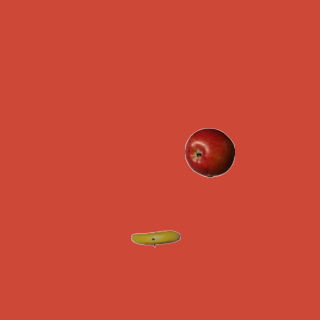Apple Braeburn: (184, 127, 234, 177)
Banana: (130, 213, 180, 263)
